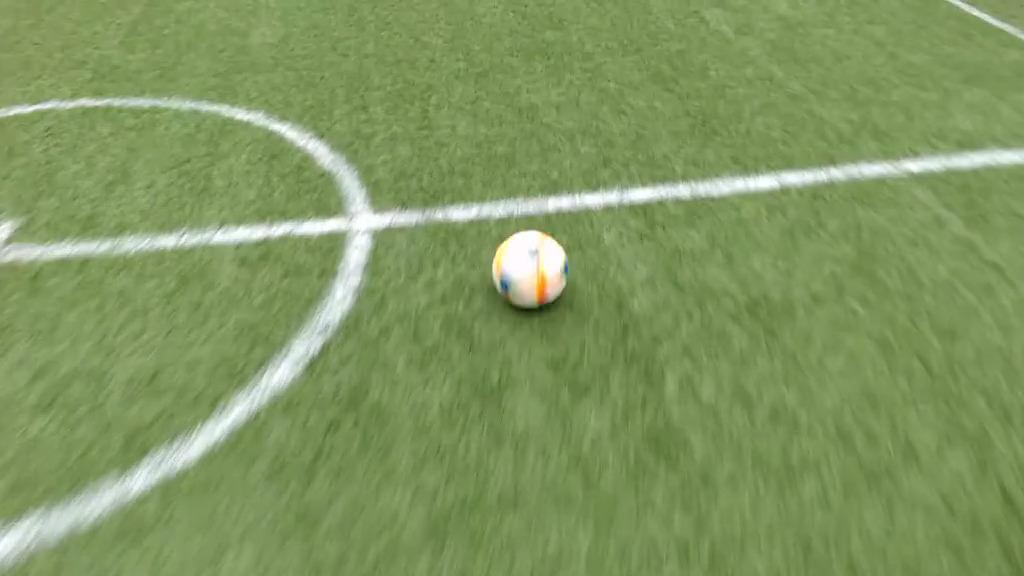ball: (494, 229, 569, 309)
